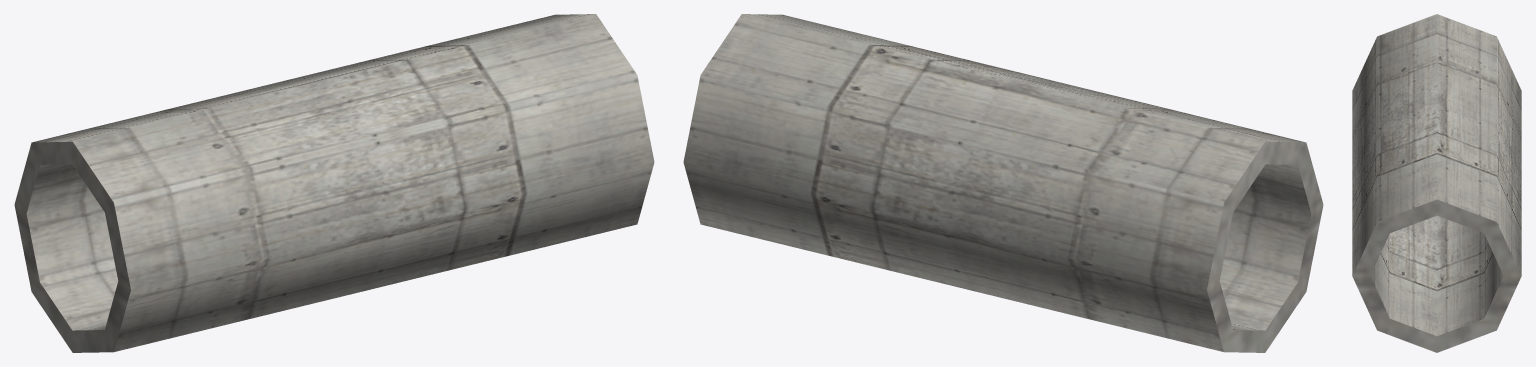
Rendered from Props_cylinder023.fbx.
3 renders of one model, left to right at view 1: azimuth 30°, elevation 25°; view 2: azimuth 150°, elevation 25°; view 3: azimuth 270°, elevation 25°, orthographic. The views are drawn at different scales.
Visible parts, largest first — view 1: Props_cylinder023; view 2: Props_cylinder023; view 3: Props_cylinder023.
Boxes of the visible parts, <box> form: Props_cylinder023: <box>14,14,654,352</box>; Props_cylinder023: <box>683,14,1323,352</box>; Props_cylinder023: <box>1352,14,1521,352</box>.
Bounding box in the file's own units: 5.45 × 2.1 × 2.1.
Materials: 1 (1 with a texture image).
